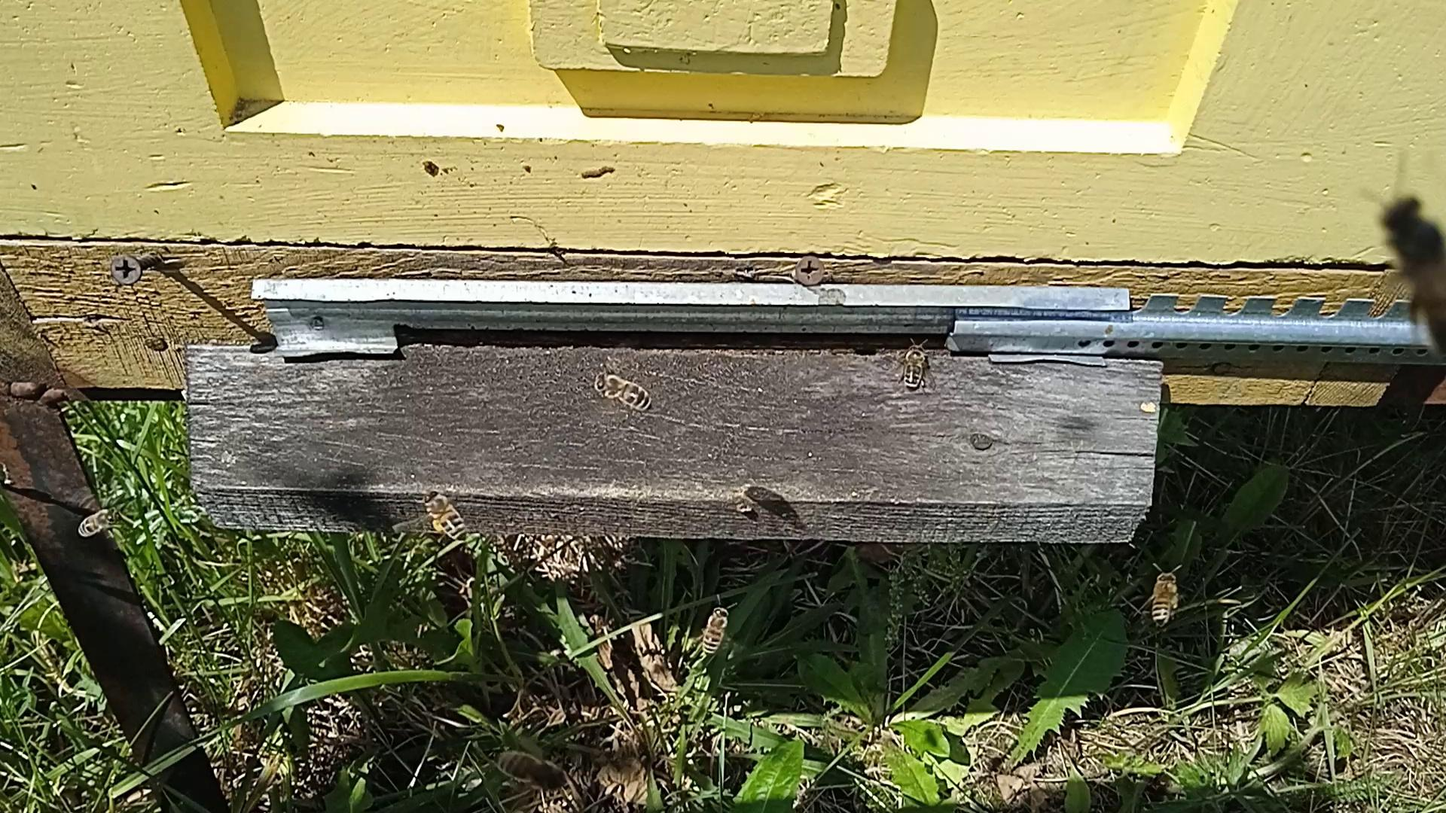worker-bee: (491, 748, 565, 791), (590, 370, 653, 412), (422, 489, 465, 538), (898, 343, 930, 394), (1150, 571, 1179, 627), (703, 604, 732, 656), (78, 508, 117, 537)
